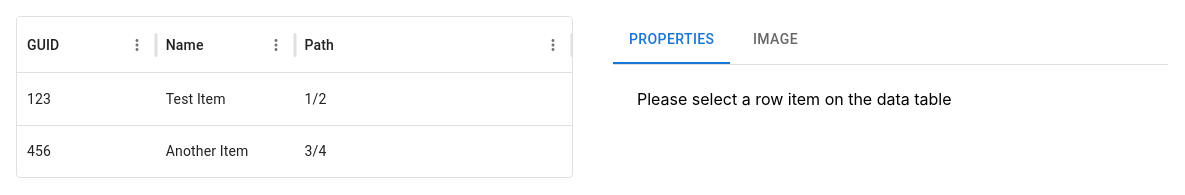
App Component › selecting a row updates properties panel
# Find and click the first row (implementation depends on your DataTable component)
Click the text "Test Item": (196, 99) [166,91,226,107]
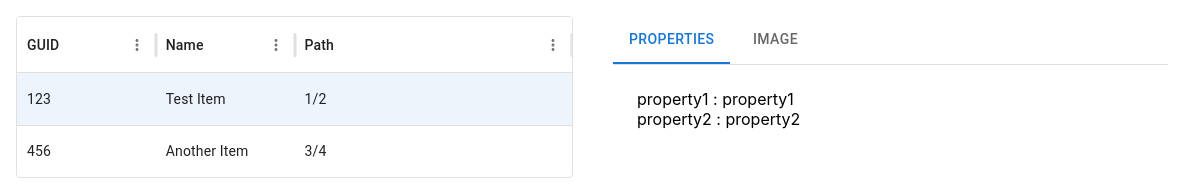
expect the text "property1 : property1" is shown: met, box [637,89,794,109]
expect the text "property2 : property2" is shown: met, box [637,109,800,129]
